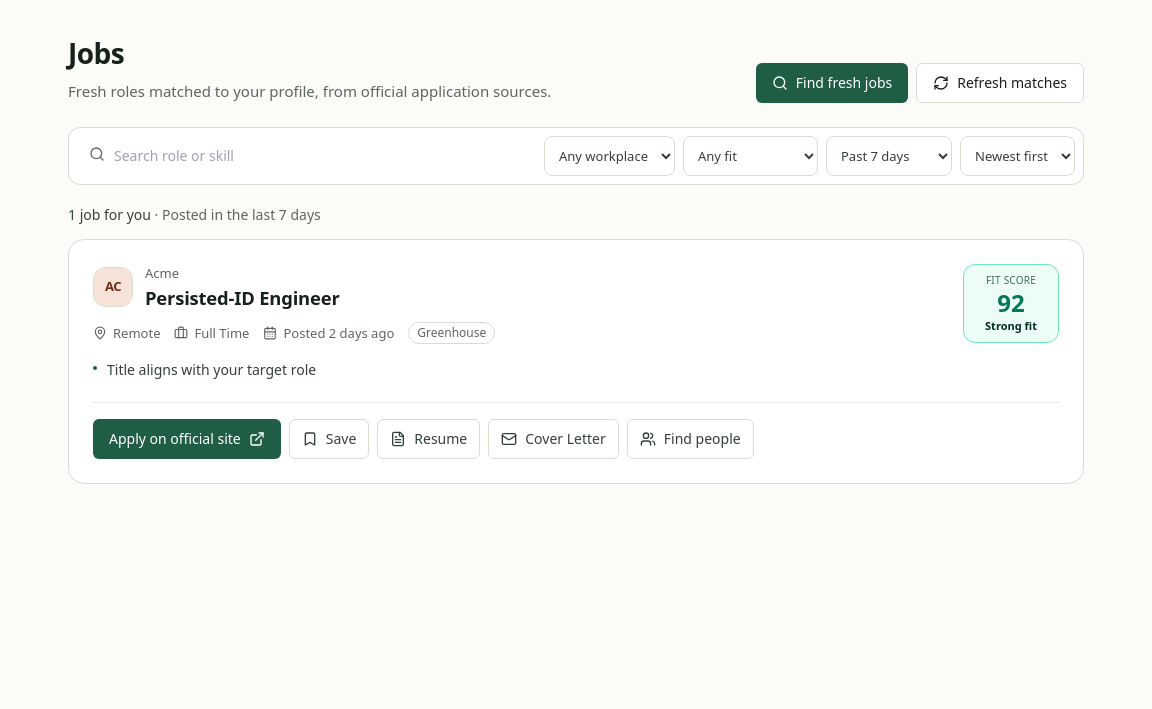
it: JobDiscovery › opens the job in the workspace and loads people only in Networking, by persisted ID
The image size is (1152, 709).
Click the button "Persisted-ID Engineer": (242, 298) [145, 285, 340, 310]
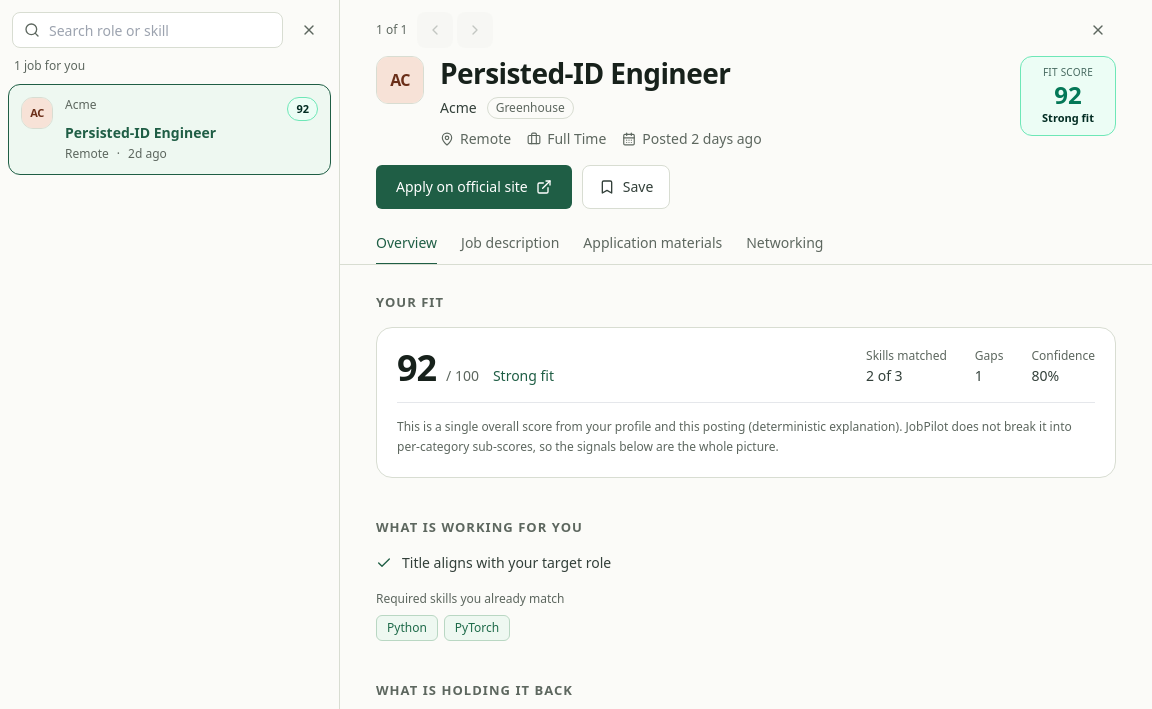
Expected: the heading "Persisted-ID Engineer" is shown, [440, 54, 730, 92]
Expected: the heading "What is working for you" is shown, [376, 518, 583, 536]
Click the tab "Networking": (785, 247) [746, 229, 823, 265]
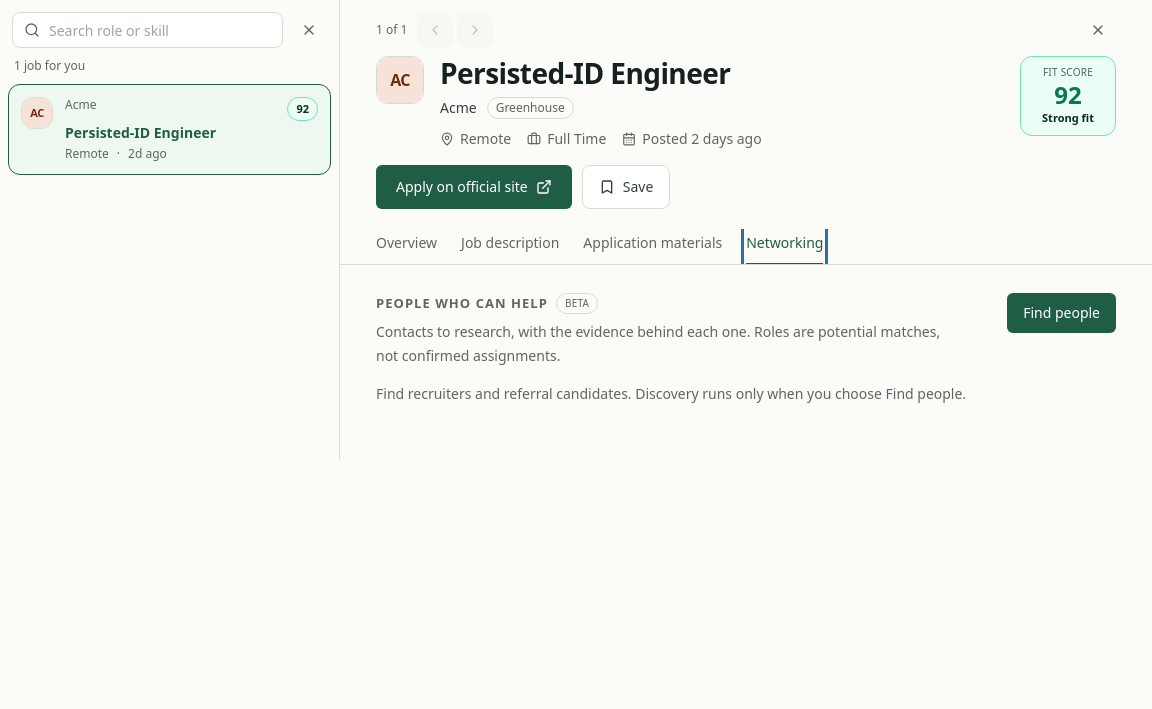
Expected: the heading "People Who Can Help" is shown, [376, 294, 548, 313]
